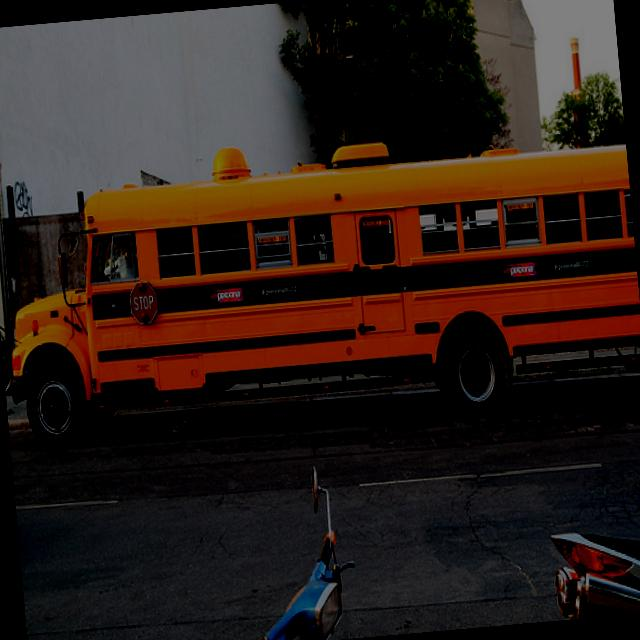Vehicle: (0, 111, 640, 456), (217, 458, 360, 640), (543, 520, 640, 620)
